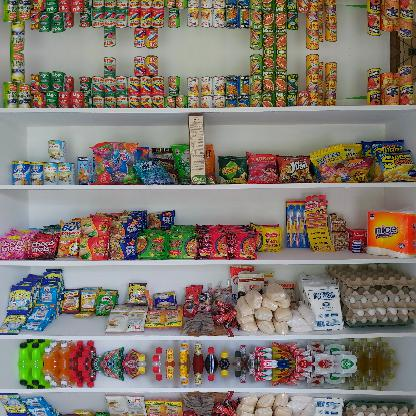Koko-Krunch: (188, 112, 206, 184)
